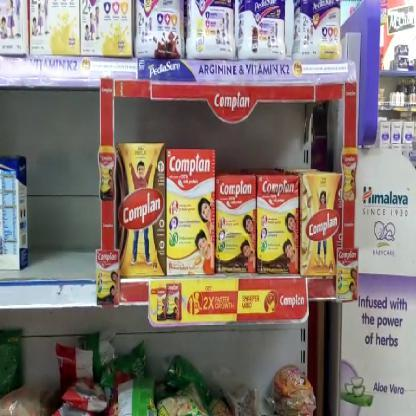Complan Kesar Badam: (301, 175, 340, 279)
Complan Royal Chocolate: (257, 174, 299, 274)
